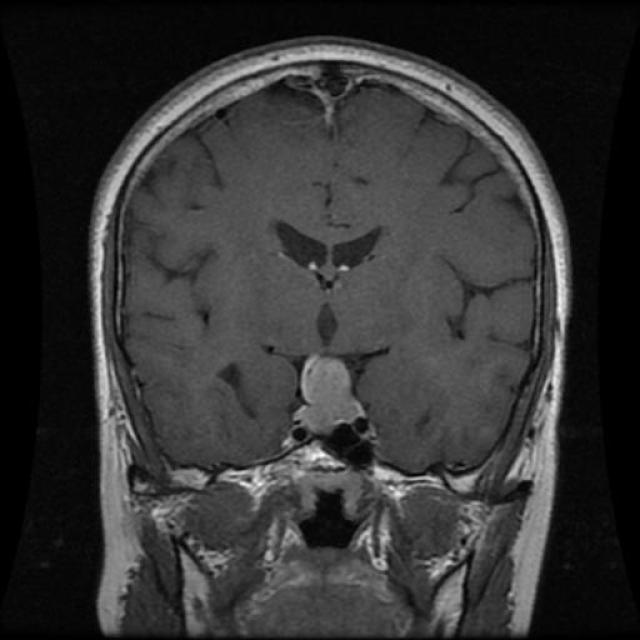pituitary: (280, 344, 414, 504)
